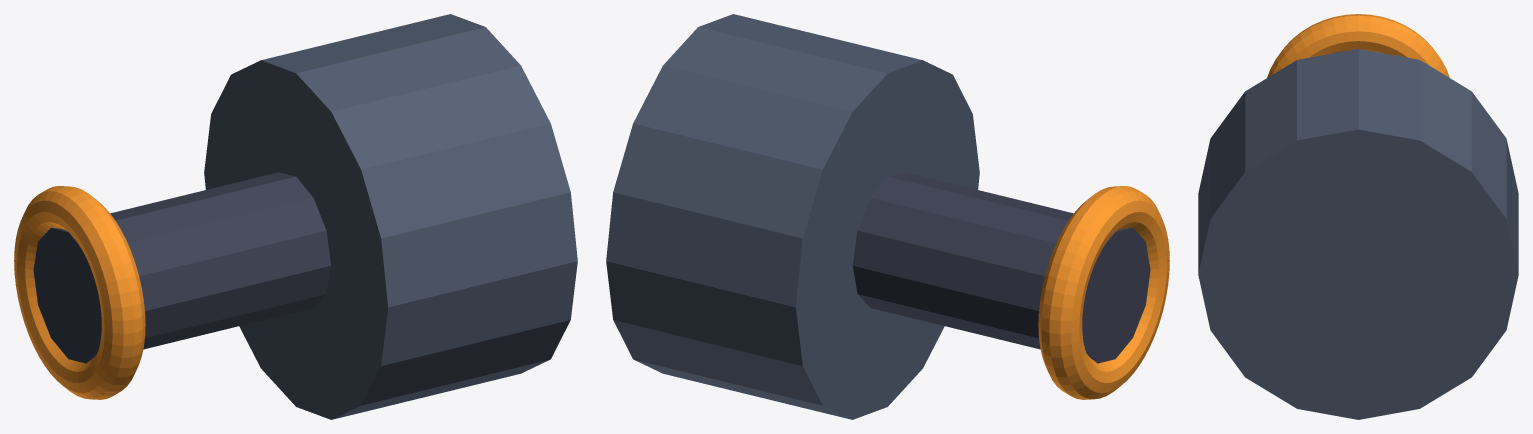
File: Turret.obj
The picture shows the model from 3 angles, left to right: view 1: azimuth 30°, elevation 25°; view 2: azimuth 150°, elevation 25°; view 3: azimuth 270°, elevation 25°; orthographic projection. The views are drawn at different scales.
Visible parts, largest first — view 1: Turret; view 2: Turret; view 3: Turret.
Part boxes in pixels (<box>): Turret: <box>14,14,577,419</box>; Turret: <box>606,14,1169,419</box>; Turret: <box>1198,14,1518,419</box>.
Bounding box in the file's own units: 1.12 × 0.84 × 0.84.
1 material, 1 textured.
